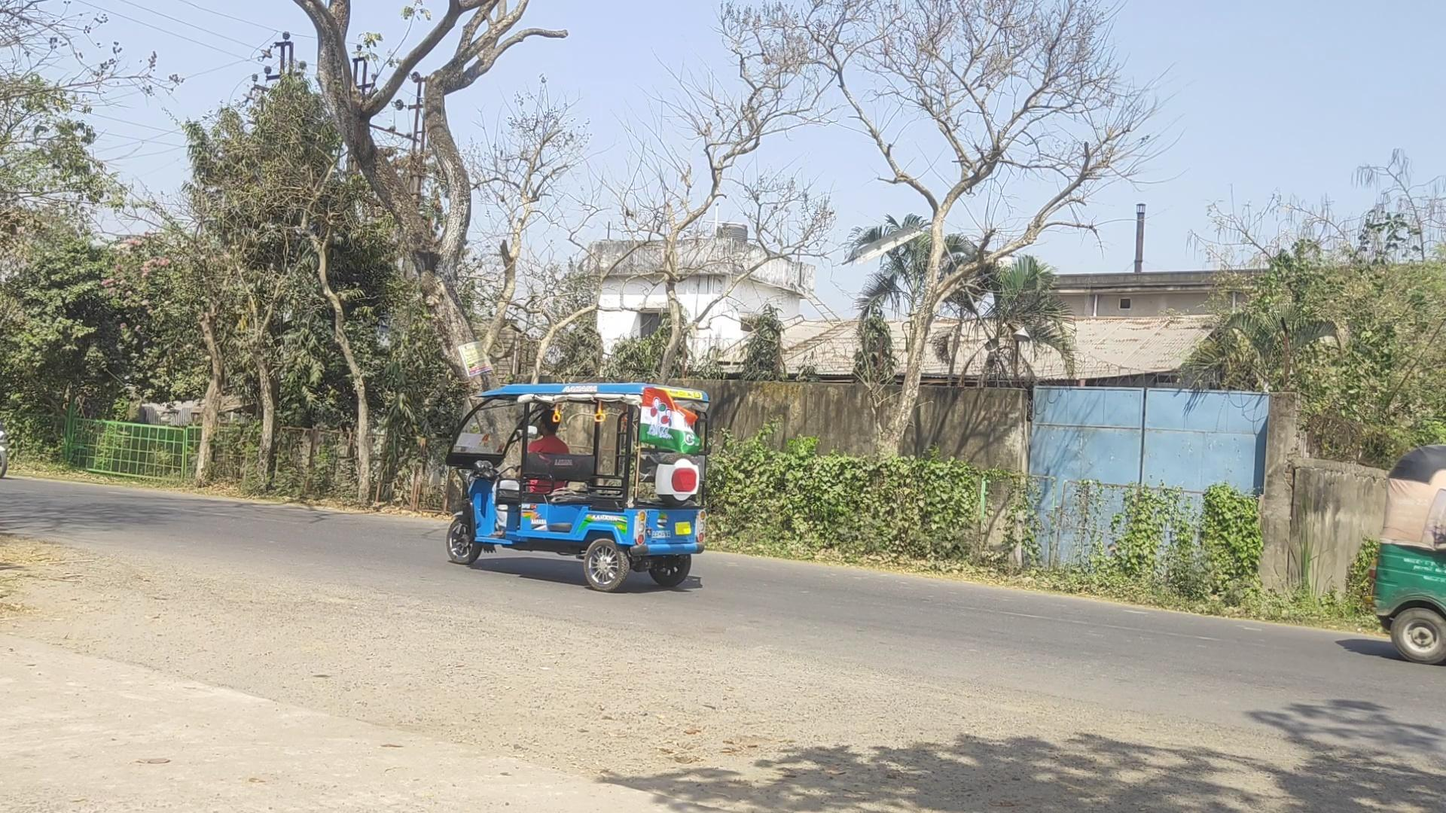Auto: (446, 382, 712, 592)
